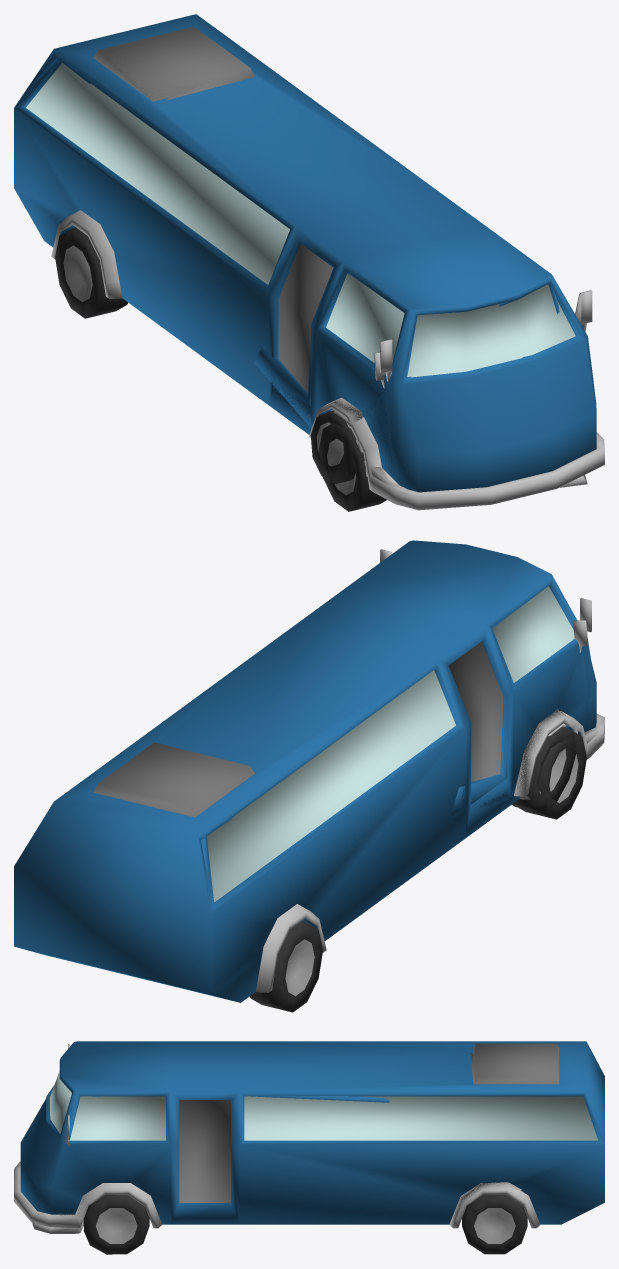
Rendered from bus.fbx.
The picture shows the model from 3 angles, top to bottom: view 1: azimuth 30°, elevation 25°; view 2: azimuth 150°, elevation 25°; view 3: azimuth 270°, elevation 25°; orthographic projection. The views are drawn at different scales.
Parts seen in each view (by area): view 1: bus_0, bus_2, bus_1; view 2: bus_0, bus_2, bus_1; view 3: bus_0, bus_1, bus_2.
Boxes of the visible parts, x1,y1,x2,y2 form: bus_0: (14,14,604,511); bus_2: (165,68,587,488); bus_1: (15,14,604,510); bus_0: (14,540,604,1012); bus_2: (381,551,597,817); bus_1: (55,541,591,911); bus_0: (14,1041,604,1254); bus_1: (32,1041,604,1253); bus_2: (32,1052,475,1254).
Bounding box in the file's own units: 21.08 × 19.65 × 67.73.
